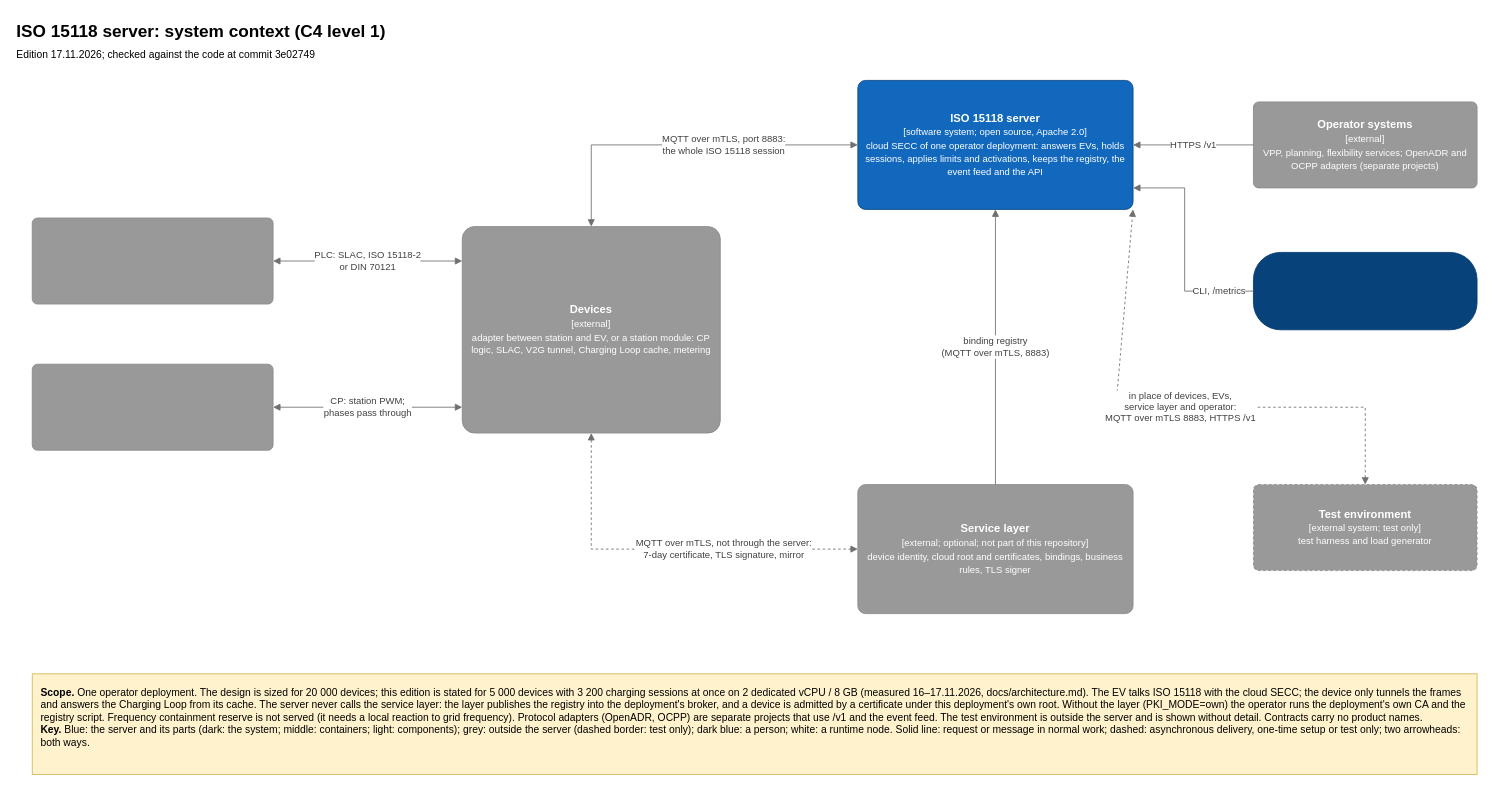
Some shapes in this 1508 by 789 pixel diagram are drawn without their labels. Each missing label, with the centre of its shape:
"Charging station [external] IEC 61851: PWM on the CP line" belongs at point 152,406.
"Electric vehicle [external] ISO 15118-2, DIN 70121 or PWM only" belongs at point 152,260.
"Operator staff [person] API keys, registry script, metrics" belongs at point 1365,291.
